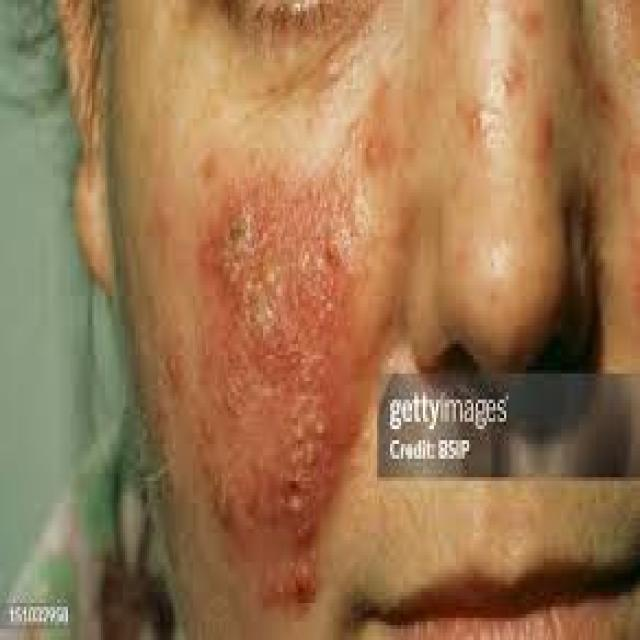Rosacea: (192, 158, 357, 600)
